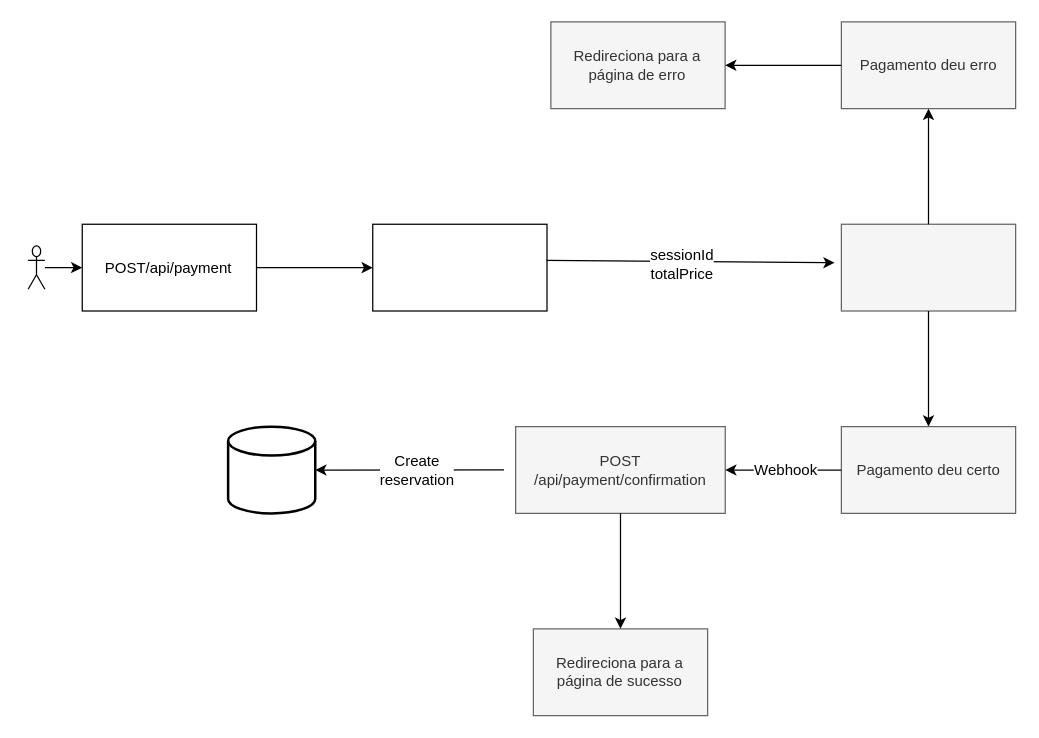
Image size: 1039x738. Some labels were removed from this diagram. The shapes that lost their labels are listed below. From the top down, each one's centre as x and y in pixels, then its label:
At (36,267): "User".
At (459,267): "Cria um Checkout".
At (928,267): "redireciona para o Checkout".
